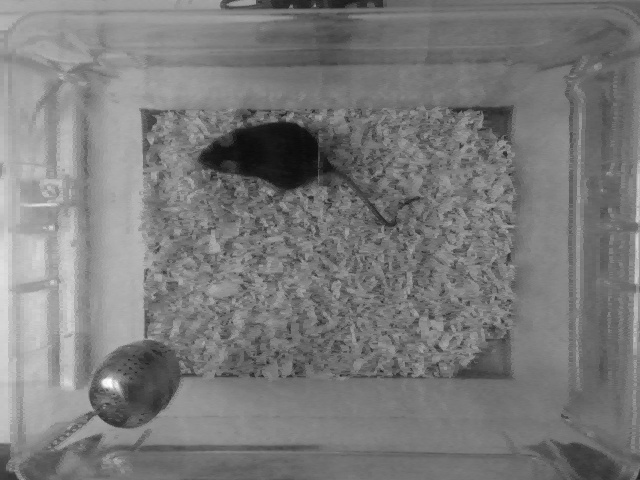mice: (195, 118, 420, 228)
